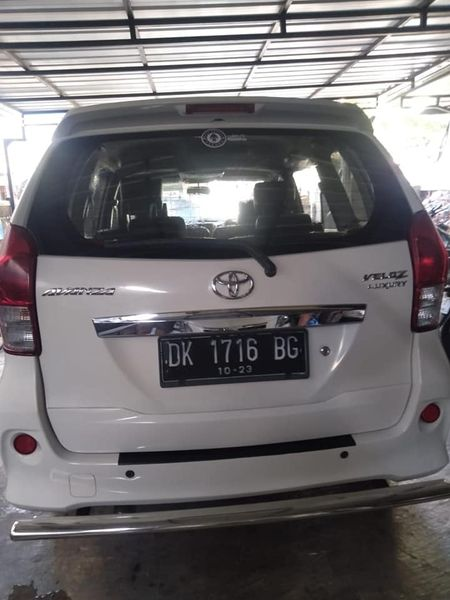plate: (150, 330, 307, 379)
